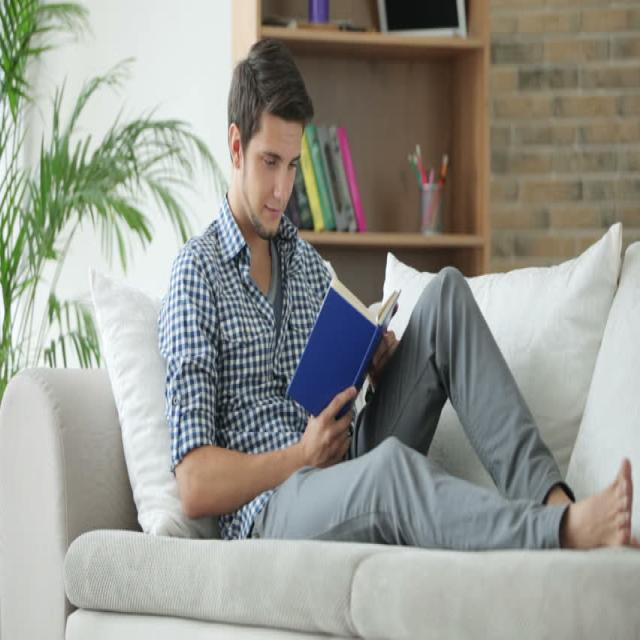Fall: (158, 45, 635, 552)
